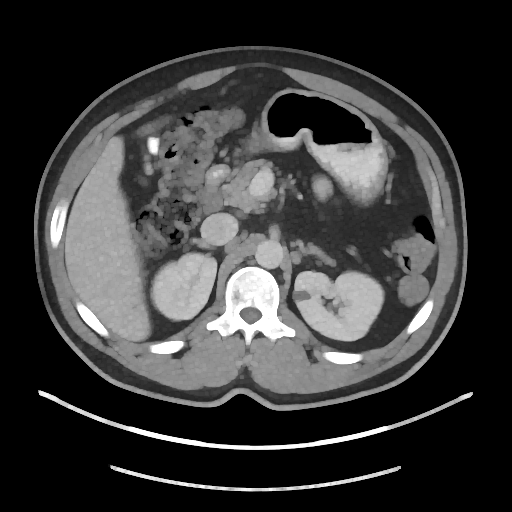Lesion: (291, 290, 312, 304)
